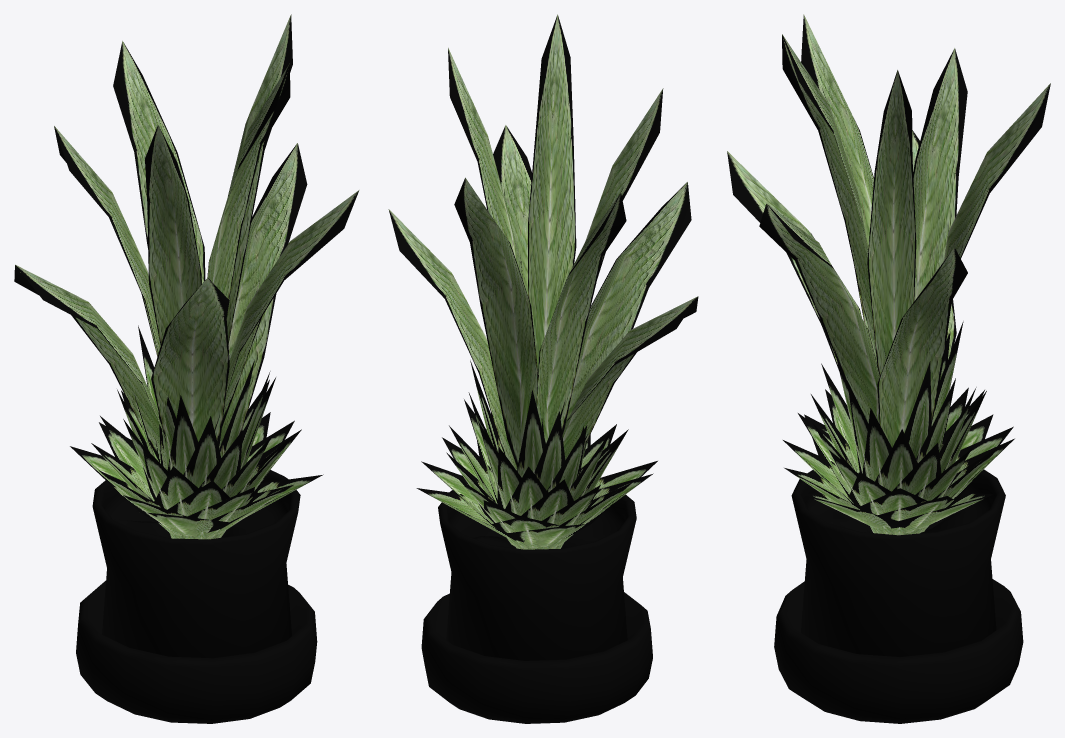
File: planta.fbx
3 views of the same model, side by side, from view 1: azimuth 30°, elevation 25°; view 2: azimuth 150°, elevation 25°; view 3: azimuth 270°, elevation 25° (orthographic). The views are drawn at different scales.
Parts seen in each view (by area): view 1: Low-Poly Plant_.001; view 2: Low-Poly Plant_.001; view 3: Low-Poly Plant_.001.
Boxes of the visible parts, x1,y1,x2,y2 form: Low-Poly Plant_.001: (14, 14, 359, 723); Low-Poly Plant_.001: (388, 14, 698, 723); Low-Poly Plant_.001: (727, 14, 1050, 723).
Size of the model in its own units: 65.33 by 135 by 59.29.
Materials: 2 (2 with a texture image).
